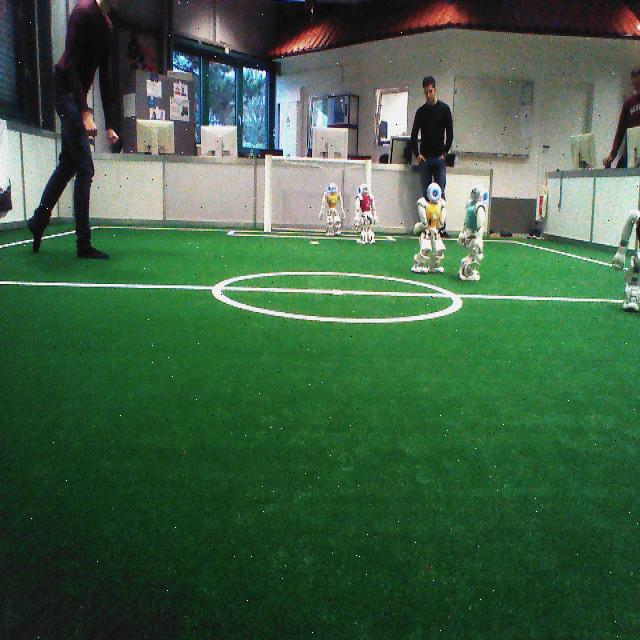goalpost: (262, 151, 274, 232), (364, 158, 373, 198)
